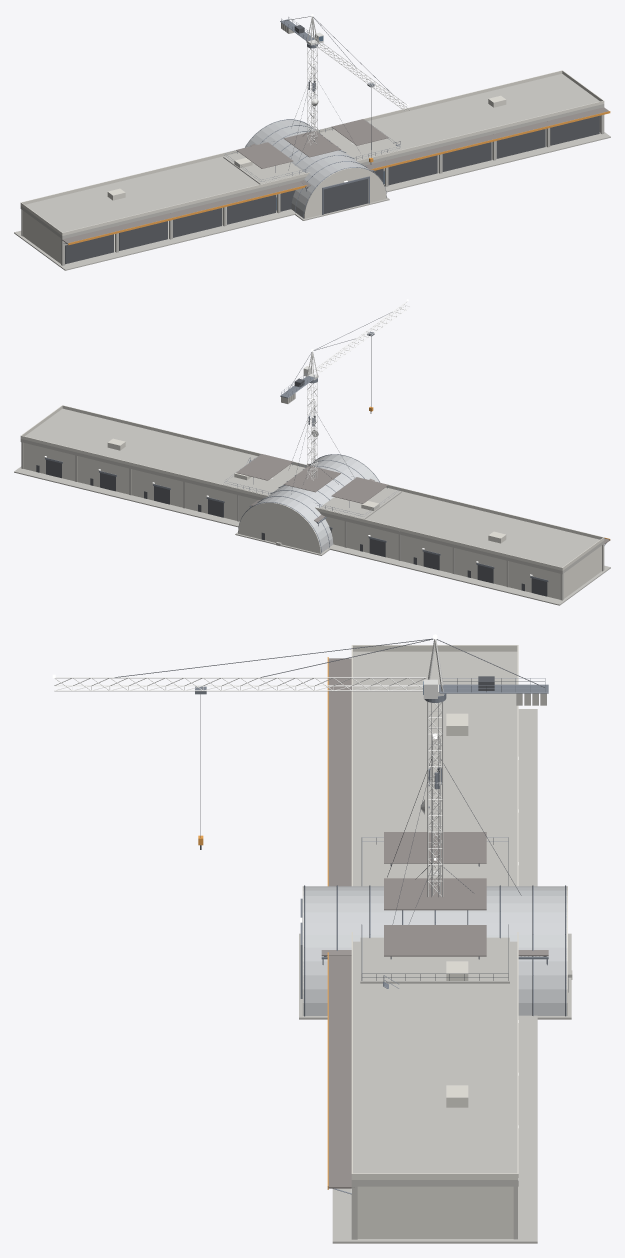
File: outposts.glb
The picture shows the model from 3 angles, top to bottom: view 1: azimuth 30°, elevation 25°; view 2: azimuth 150°, elevation 25°; view 3: azimuth 270°, elevation 25°; orthographic projection. The views are drawn at different scales.
Visible parts, largest first — view 1: garages.concrete, garages.dark, garages.panel, hangar.cladding, garages.roof, hospitality.roof, hospitality.concrete, crane.paint, hangar.panel, garages.accent, hangar.dark, hangar.steel; view 2: garages.concrete, garages.panel, hangar.cladding, hangar.panel, hospitality.roof, garages.dark, hospitality.concrete, crane.paint, hangar.steel; view 3: garages.concrete, hangar.cladding, garages.panel, garages.roof, hospitality.roof, hospitality.concrete, crane.paint, crane.steel, hangar.steel, crane.dark, mast.paint, garages.accent (+1 smaller).
Boxes of the visible parts, x1=… form: garages.concrete: x1=14, y1=74, x2=610, y2=270; garages.dark: x1=65, y1=116, x2=599, y2=264; garages.panel: x1=20, y1=70, x2=604, y2=263; hangar.cladding: x1=245, y1=120, x2=368, y2=218; garages.roof: x1=62, y1=107, x2=608, y2=244; hospitality.roof: x1=236, y1=119, x2=388, y2=168; hospitality.concrete: x1=223, y1=129, x2=401, y2=197; crane.paint: x1=306, y1=16, x2=410, y2=145; hangar.panel: x1=245, y1=124, x2=386, y2=218; garages.accent: x1=68, y1=111, x2=610, y2=245; hangar.dark: x1=323, y1=179, x2=367, y2=213; hangar.steel: x1=245, y1=119, x2=386, y2=218; garages.concrete: x1=14, y1=408, x2=610, y2=605; garages.panel: x1=20, y1=405, x2=604, y2=599; hangar.cladding: x1=256, y1=454, x2=379, y2=553; hangar.panel: x1=238, y1=458, x2=378, y2=553; hospitality.roof: x1=236, y1=454, x2=388, y2=503; garages.dark: x1=36, y1=459, x2=547, y2=596; hospitality.concrete: x1=223, y1=464, x2=401, y2=519; crane.paint: x1=303, y1=301, x2=409, y2=480; hangar.steel: x1=238, y1=454, x2=379, y2=553; garages.concrete: x1=332, y1=651, x2=537, y2=1243; hangar.cladding: x1=303, y1=886, x2=566, y2=1015; garages.panel: x1=351, y1=645, x2=518, y2=1238; garages.roof: x1=328, y1=658, x2=354, y2=1188; hospitality.roof: x1=384, y1=832, x2=486, y2=956; hospitality.concrete: x1=360, y1=844, x2=509, y2=983; crane.paint: x1=54, y1=639, x2=443, y2=896; crane.steel: x1=195, y1=678, x2=548, y2=896; hangar.steel: x1=300, y1=885, x2=566, y2=1016; crane.dark: x1=114, y1=638, x2=544, y2=849; mast.paint: x1=420, y1=733, x2=440, y2=895; garages.accent: x1=327, y1=657, x2=328, y2=1189.
Bounding box in the file's own units: 172 × 52.7 × 70.9.
